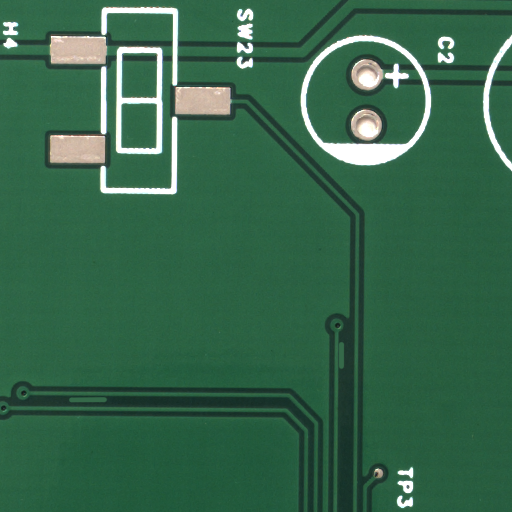Spurious_copper: (88, 398, 127, 407), (342, 354, 350, 384)
